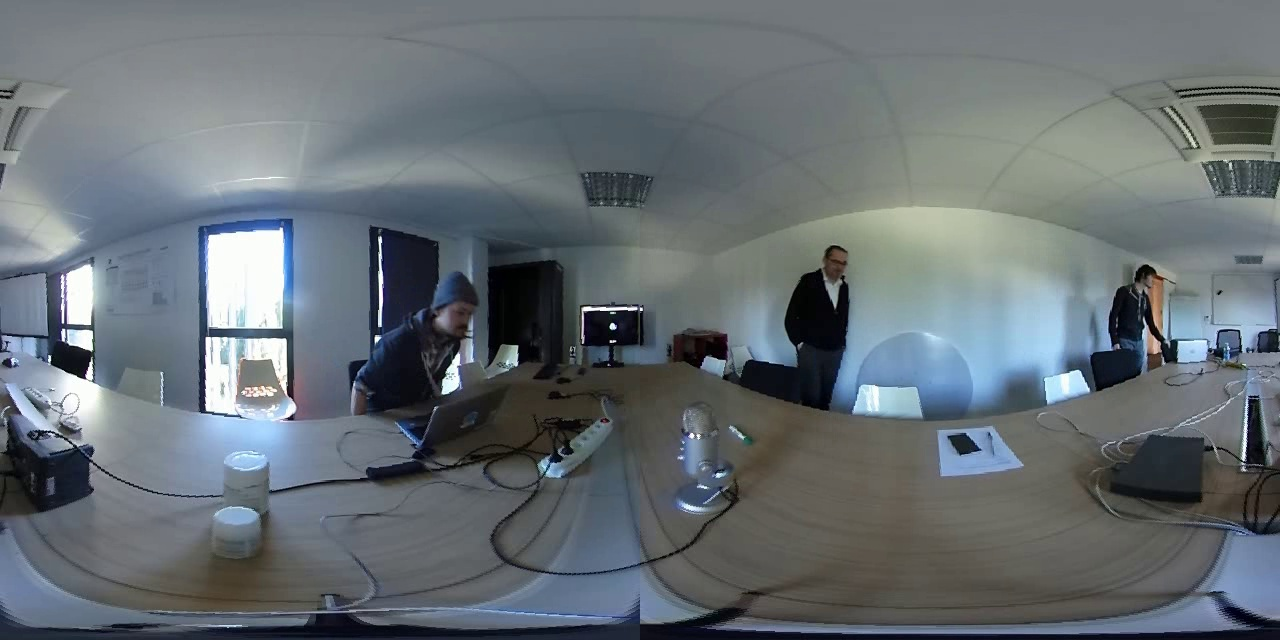person: (356, 270, 497, 397), (783, 234, 868, 391), (1107, 253, 1167, 352)
